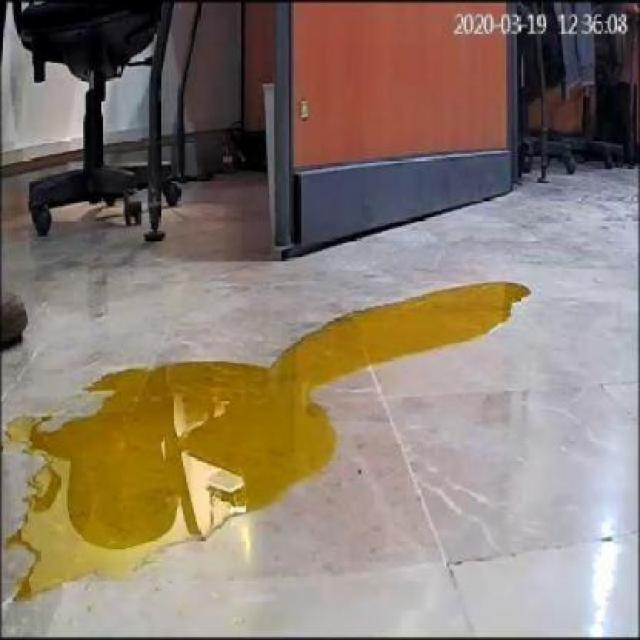spillage: (5, 283, 531, 603)
